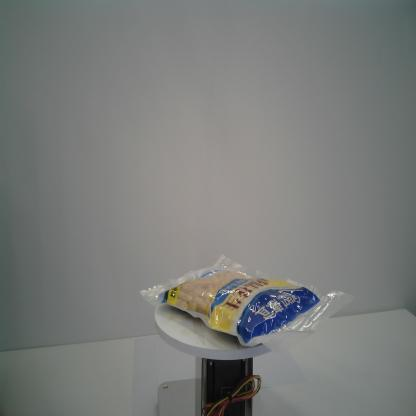Dried Fruit: (136, 250, 356, 353)
